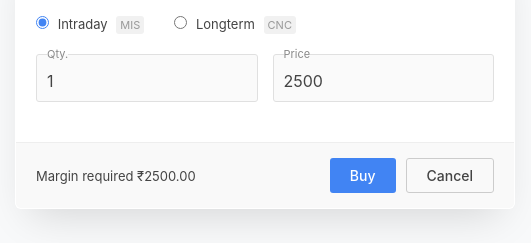
Scenario: BuyActionWindow component › displays error when user has insufficient funds for buy order
The image size is (531, 243).
Click the button "Buy". click: point(363, 176)
box: [330,158,396,193]
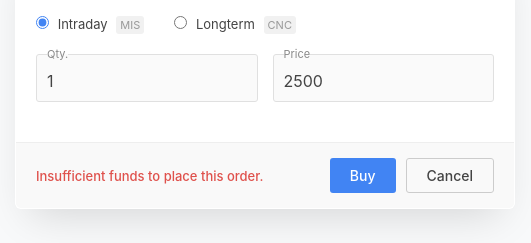
Now the text "Insufficient funds to place this order." is shown, box [36,168,263,184]
